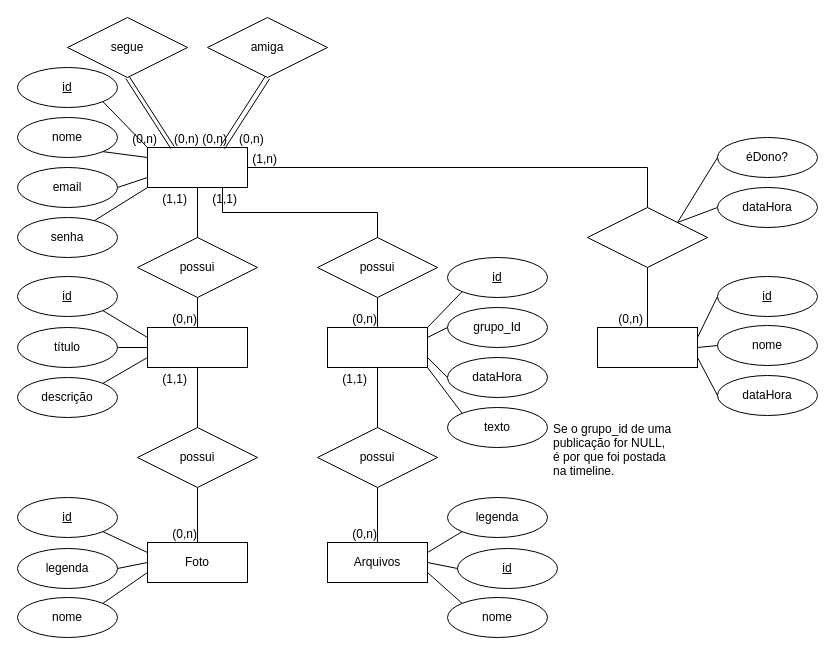
Image size: 835x655. Some labels were removed from this diagram. Here are the shapes that lost their labels. From the top down, the centre of each, then its label:
At [197,167]: "Usuário".
At [647,237]: "membros".
At [197,347]: "Ábum".
At [377,347]: "Publicações".
At [647,347]: "Grupo".
